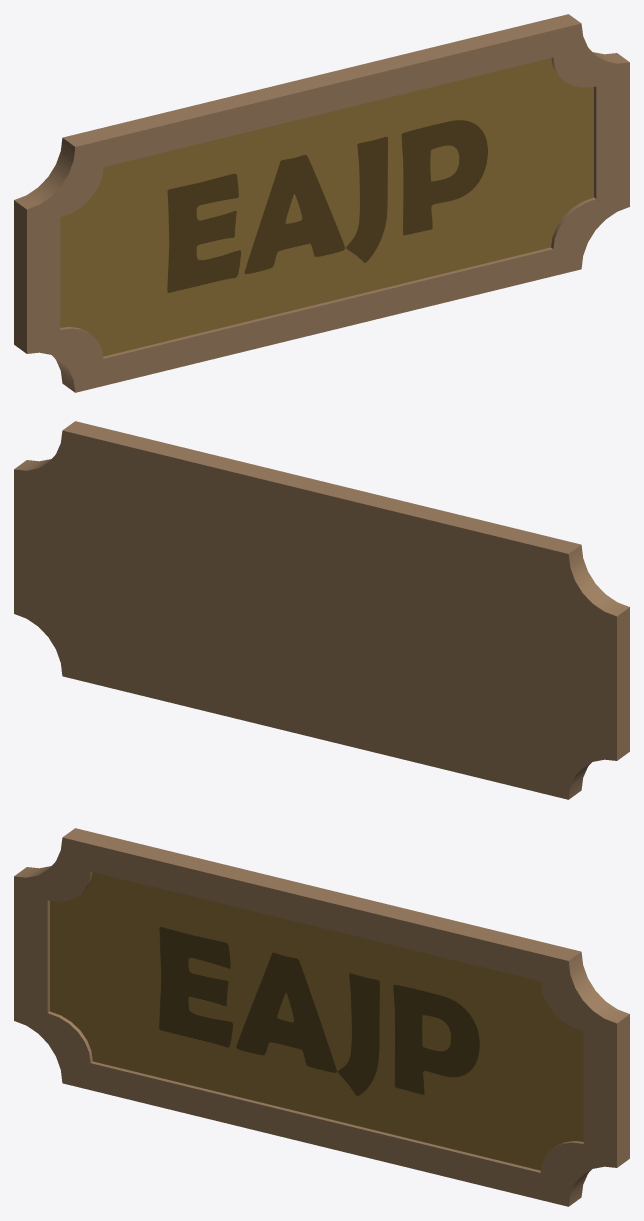
The model's file is plaque.fbx.
3 renders of one model, top to bottom at view 1: azimuth 30°, elevation 25°; view 2: azimuth 150°, elevation 25°; view 3: azimuth 330°, elevation 25°, orthographic.
Parts seen in each view (by area): view 1: pCube1; view 2: pCube1; view 3: pCube1.
Part boxes in pixels (box(x1,y1,x2,y2)): pCube1: box(14, 14, 629, 392); pCube1: box(14, 421, 629, 799); pCube1: box(14, 828, 629, 1206).
Size of the model in its own units: 7.25 by 2.82 by 0.2682.
Materials: 2 (1 with a texture image).
